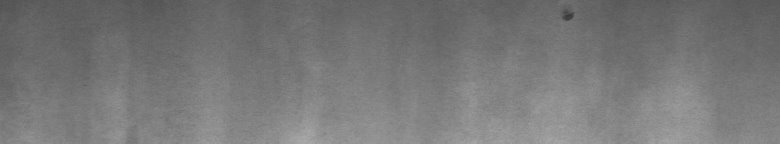fi: (559, 4, 579, 28)
